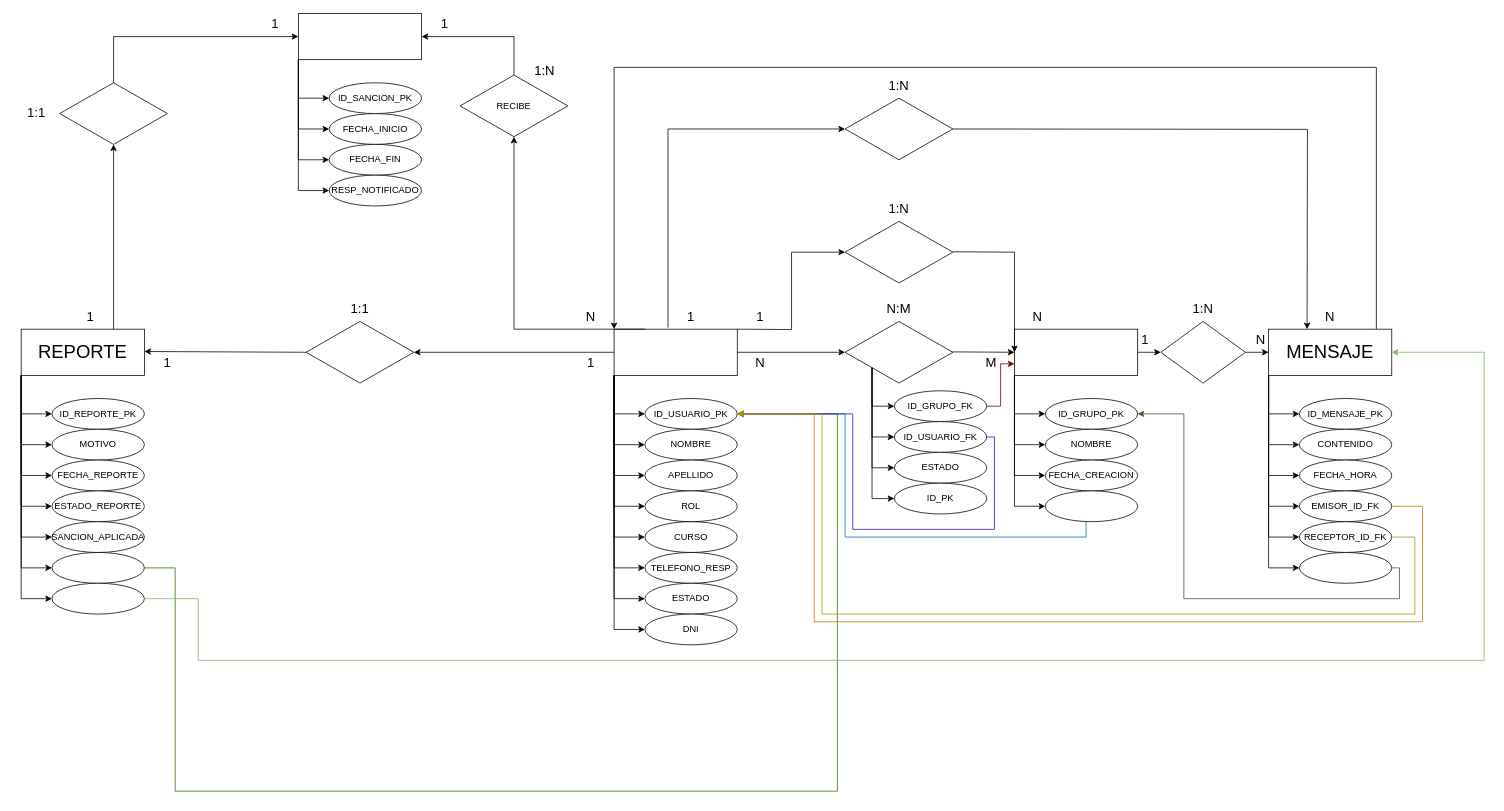
Image size: 1504x811. Some labels were removed from this diagram. Each missing label, with the centre of its shape:
"CONTIENE" belongs at point (1202, 352).
"CREA" belongs at point (898, 252).
"ES MIEMBRO" belongs at point (898, 352).
"GENERA" belongs at point (113, 113).
"GRUPO" belongs at point (1076, 351).
"GRUPO_ID_FK" belongs at point (1345, 567).
"HACE" belongs at point (359, 352).
"ID_MENSAJE_FK" belongs at point (97, 598).
"MANDA" belongs at point (898, 128).
"SANCION" belongs at point (360, 36).
"USER_CREA_FK" belongs at point (1091, 506).
"USUARIO" belongs at point (675, 351).
"USUARIO_REP_FK" belongs at point (97, 567).
